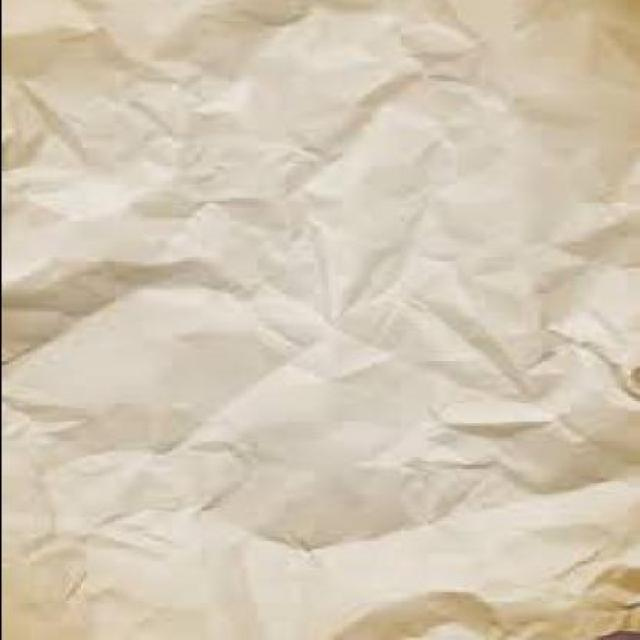PAPER: (0, 2, 637, 640)
